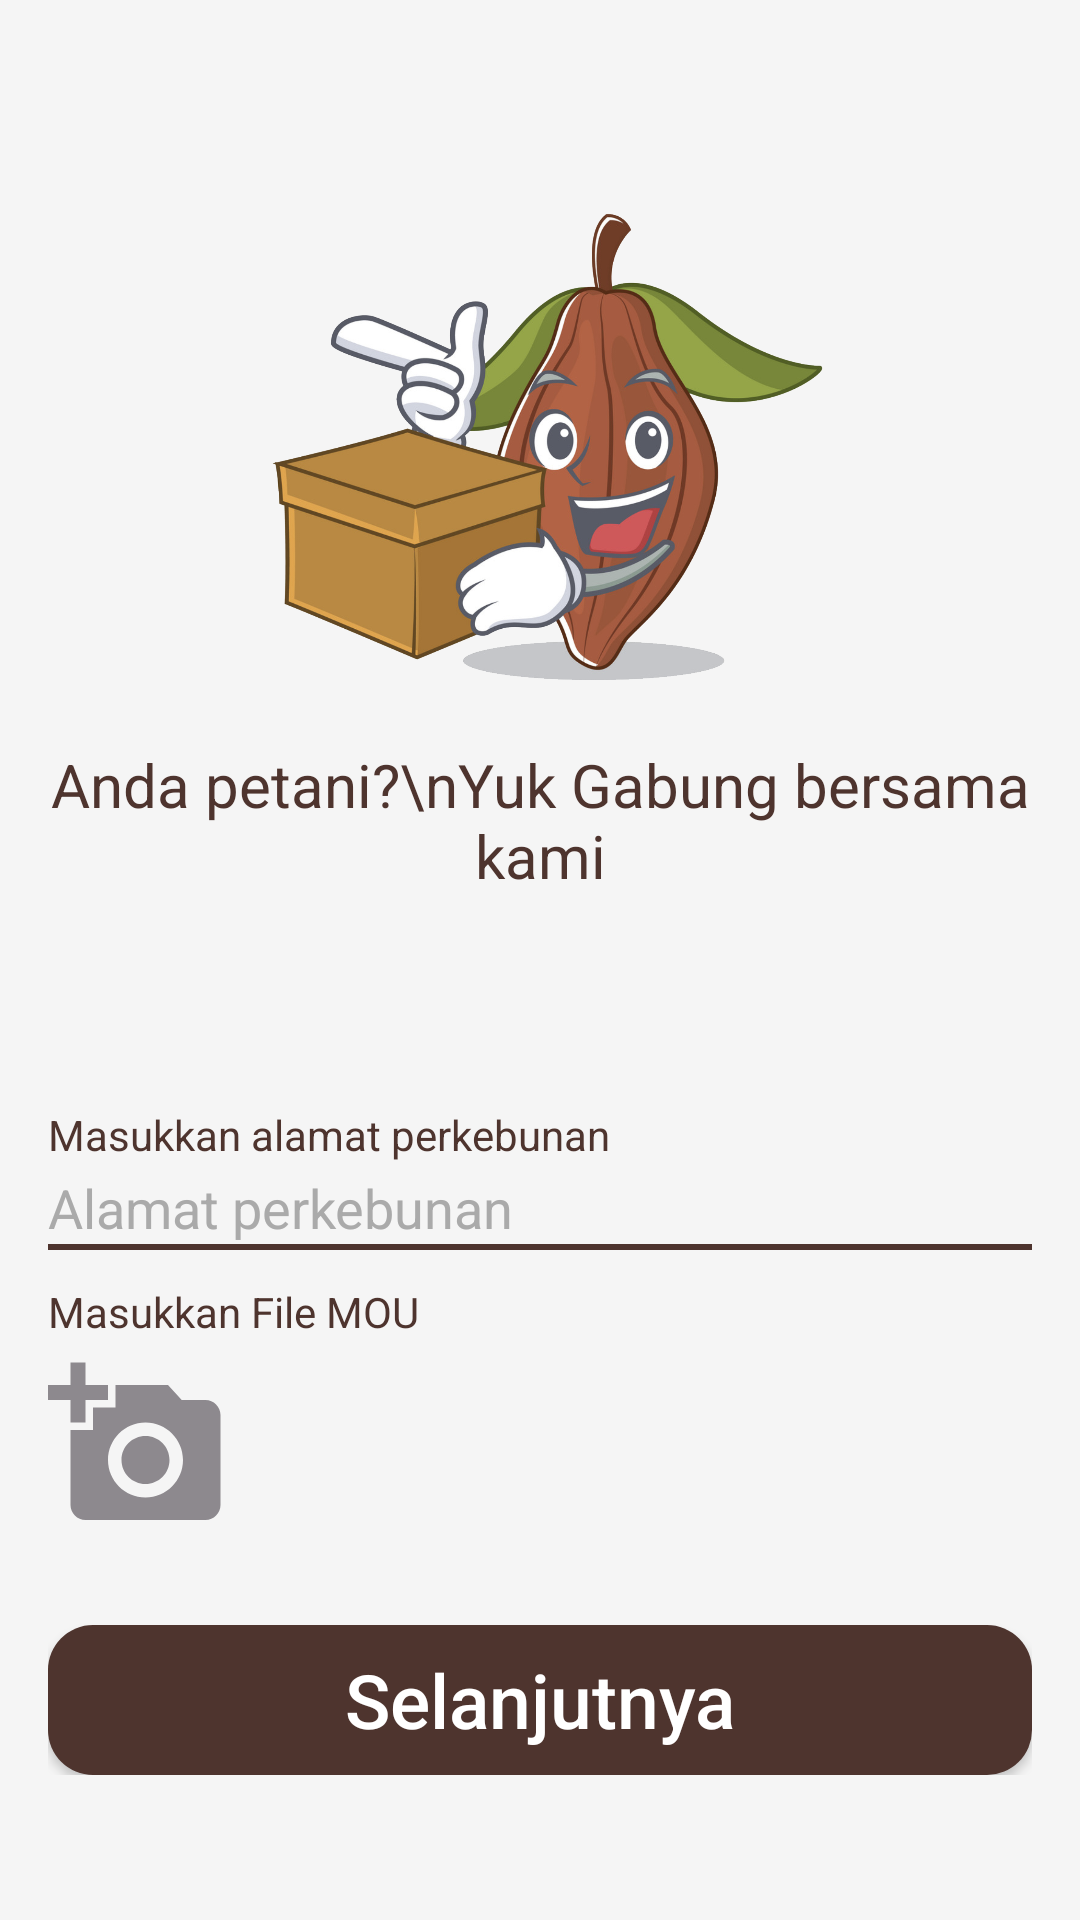

Icons on this 1080w x 1920h Android screen, each with its box as BBox(x1, y1, x2, y2):
add photo: BBox(48, 1362, 221, 1520)
